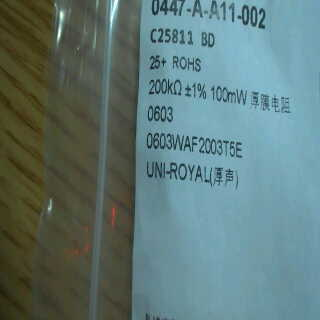200kR: (145, 75, 184, 99)
